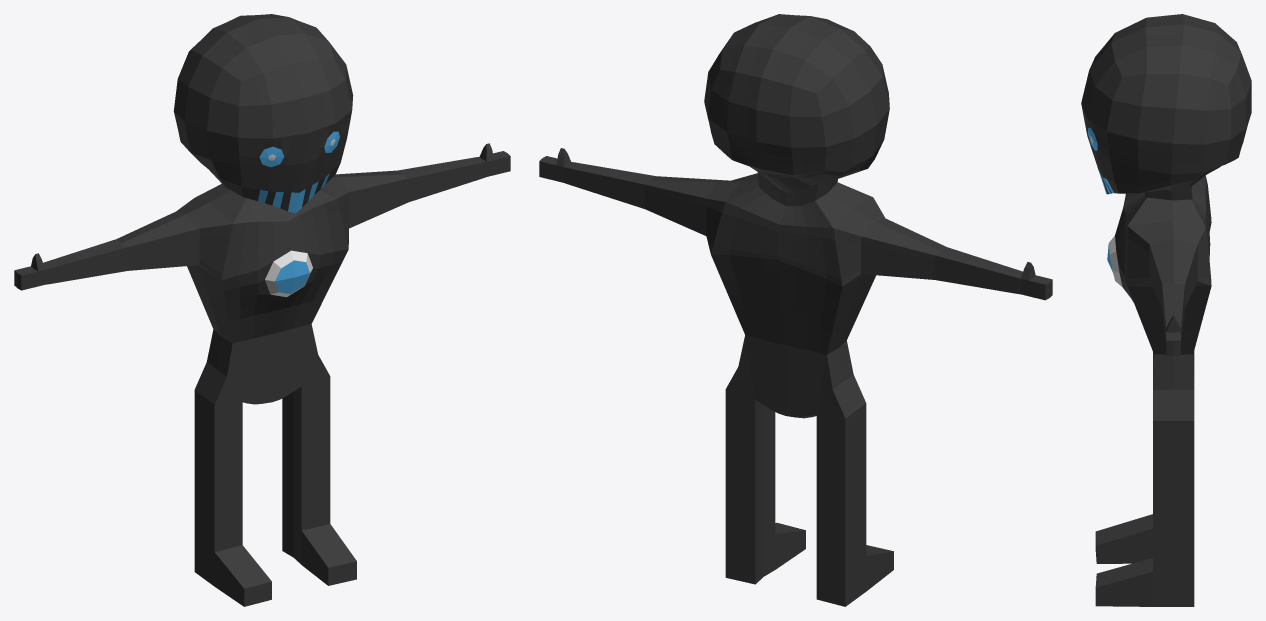
Rendered from mod_playerTest.fbx.
3 views of the same model, side by side, from view 1: azimuth 30°, elevation 25°; view 2: azimuth 150°, elevation 25°; view 3: azimuth 270°, elevation 25° (orthographic). The views are drawn at different scales.
Visible parts, largest first — view 1: playerCharacter; view 2: playerCharacter; view 3: playerCharacter.
Boxes of the visible parts, x1,y1,x2,y2 form: playerCharacter: (14,14,510,606); playerCharacter: (539,14,1052,606); playerCharacter: (1081,14,1251,606).
Size of the model in its own units: 525 by 554 by 155.
